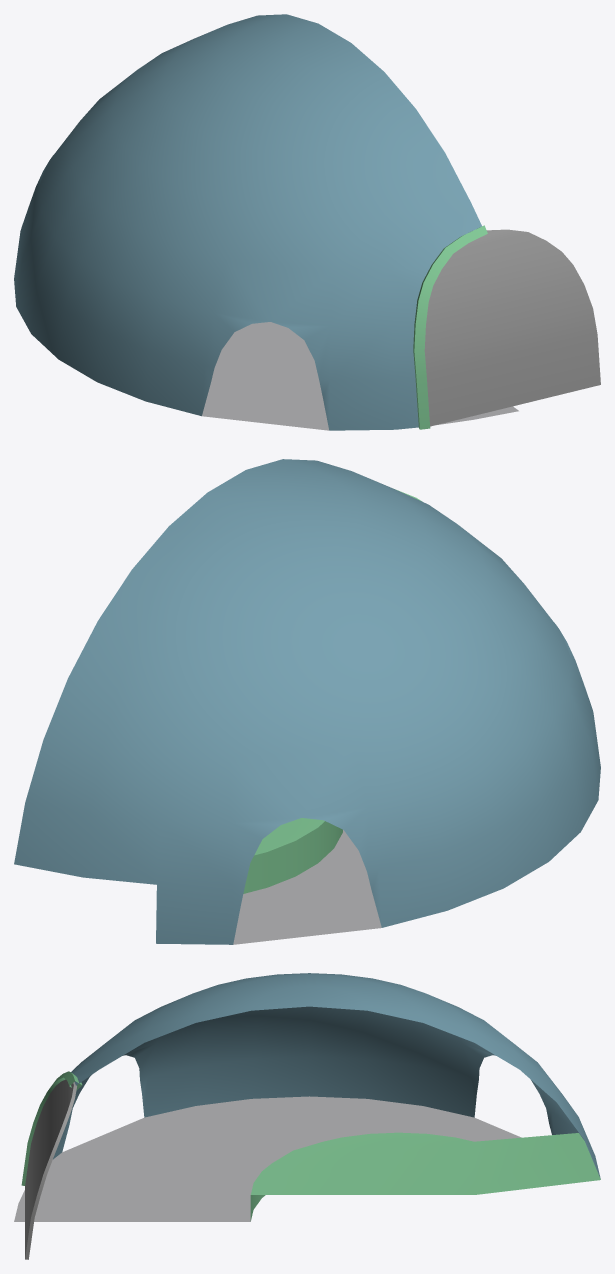
The model's file is spacial_ship_main_room.fbx.
3 renders of one model, top to bottom at view 1: azimuth 30°, elevation 25°; view 2: azimuth 150°, elevation 25°; view 3: azimuth 270°, elevation 25°, orthographic. The views are drawn at different scales.
Visible parts, largest first — view 1: MainDoorFrame, MainDoor; view 2: MainDoorFrame; view 3: MainDoorFrame, MainDoor.
Part boxes in pixels (left/top/right/bottom): MainDoorFrame: left=14, top=14, right=518, bottom=430; MainDoor: left=424, top=229, right=600, bottom=426; MainDoorFrame: left=14, top=459, right=600, bottom=944; MainDoorFrame: left=14, top=973, right=600, bottom=1221; MainDoor: left=25, top=1079, right=76, bottom=1259.
Bounding box in the file's own units: 1300 × 800 × 1975.
